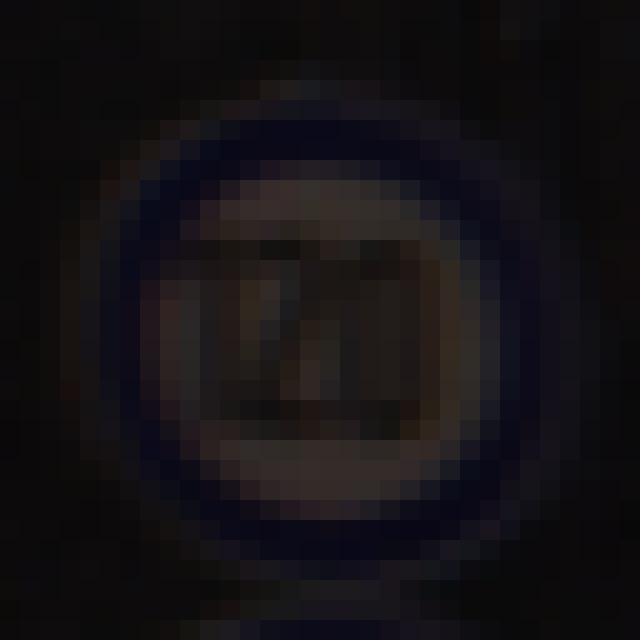SPEED LIMIT 120: (117, 149, 529, 540)
